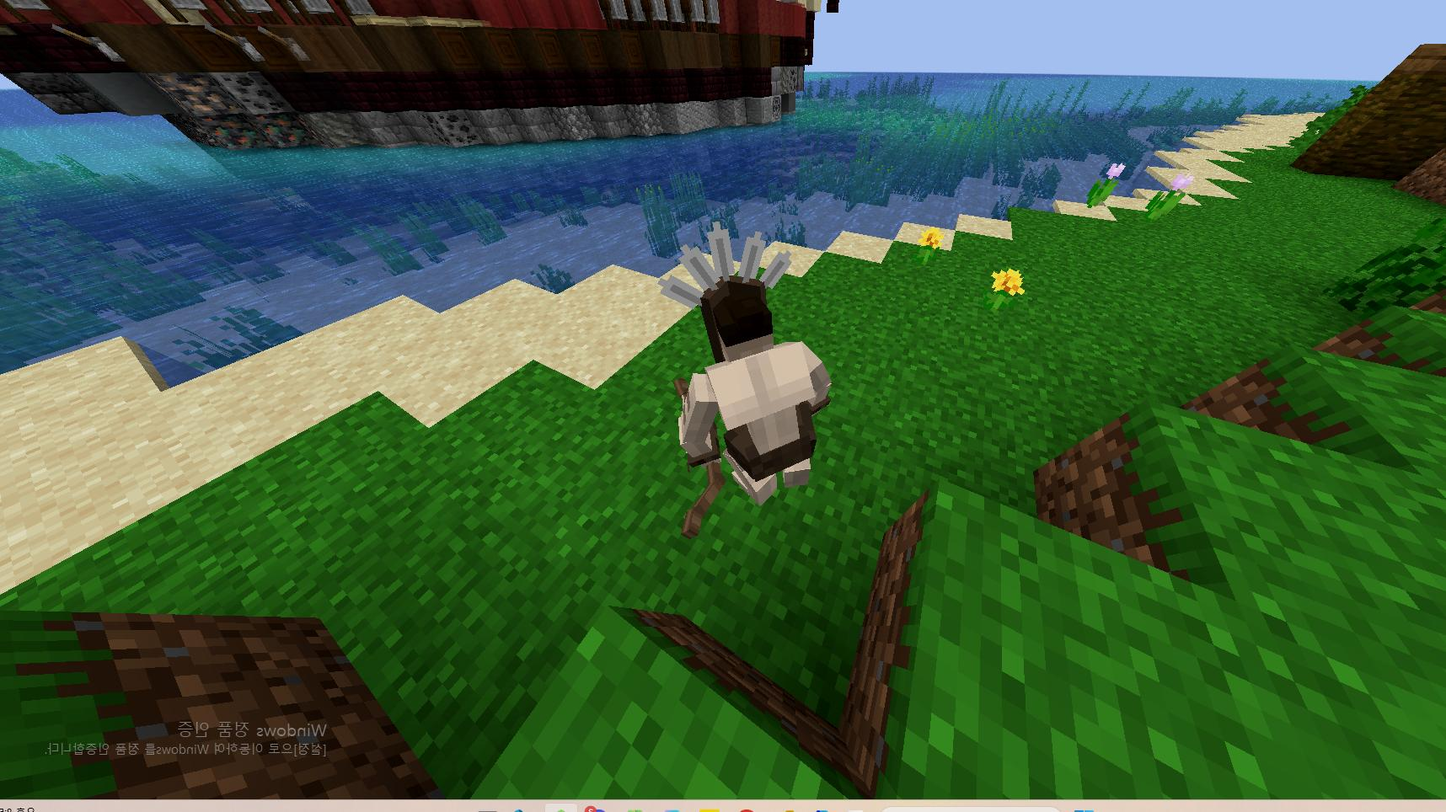bow_indian: (595, 221, 875, 570)
